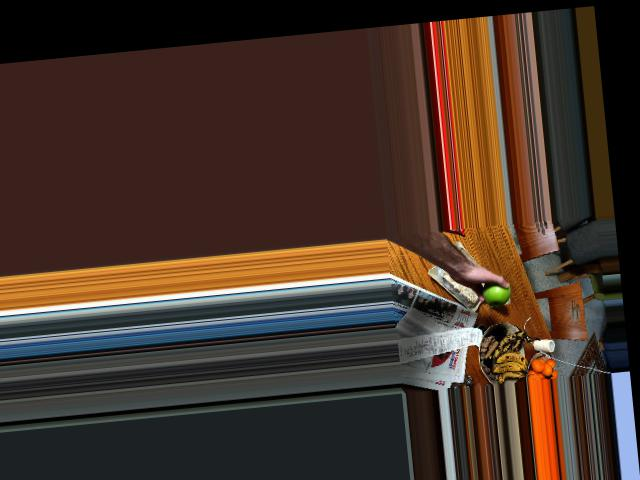apple: (476, 275, 513, 307)
